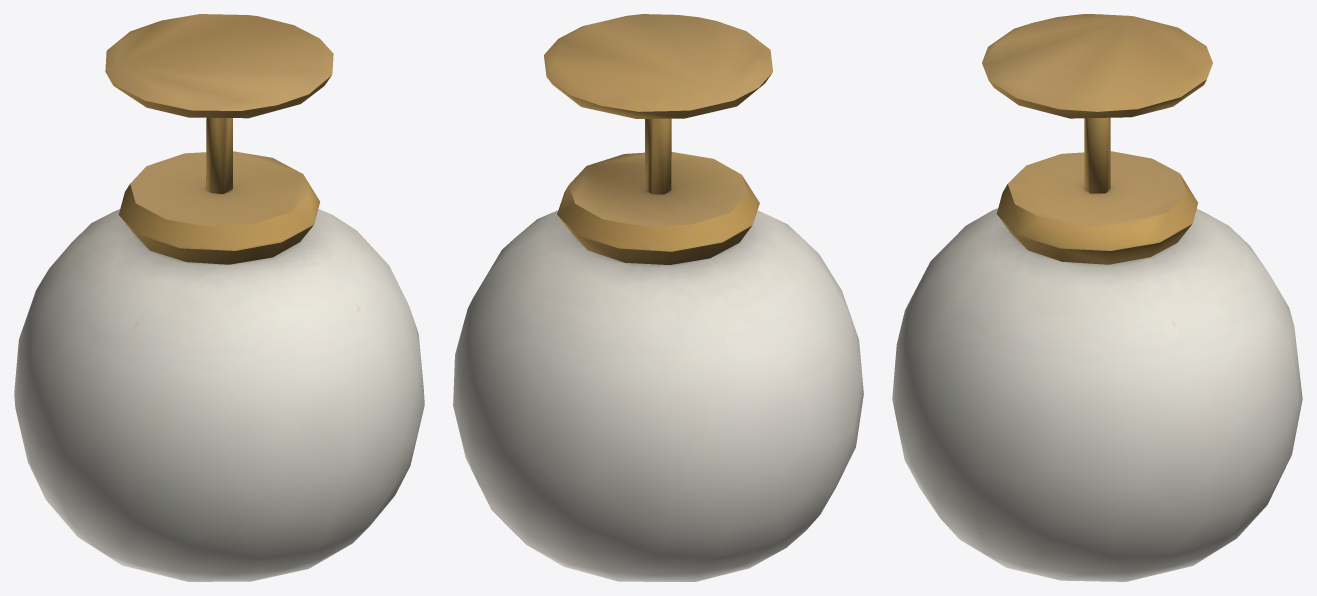
Rendered from ceiling_globe-low.glb.
The picture shows the model from 3 angles, left to right: view 1: azimuth 30°, elevation 25°; view 2: azimuth 150°, elevation 25°; view 3: azimuth 270°, elevation 25°; orthographic projection.
Visible parts, largest first — view 1: ceiling_globe-low; view 2: ceiling_globe-low; view 3: ceiling_globe-low.
Part boxes in pixels (box(x1,y1,x2,y2)): ceiling_globe-low: box(14, 14, 424, 581); ceiling_globe-low: box(453, 14, 863, 581); ceiling_globe-low: box(892, 14, 1302, 581).
Size of the model in its own units: 0.284 by 0.372 by 0.284.
Materials: 1 (1 with a texture image).
